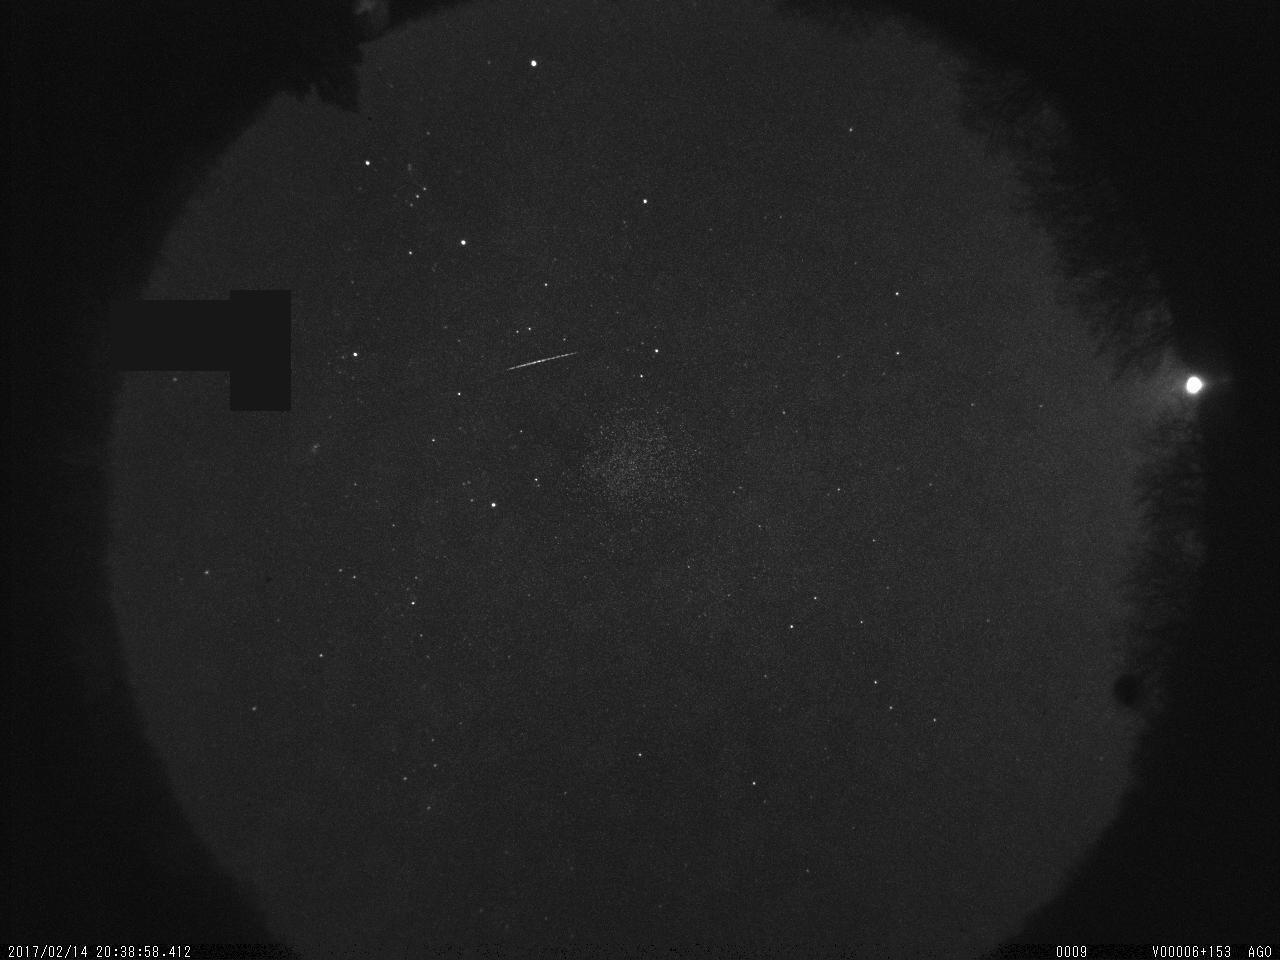Meteor: (503, 348, 578, 372)
